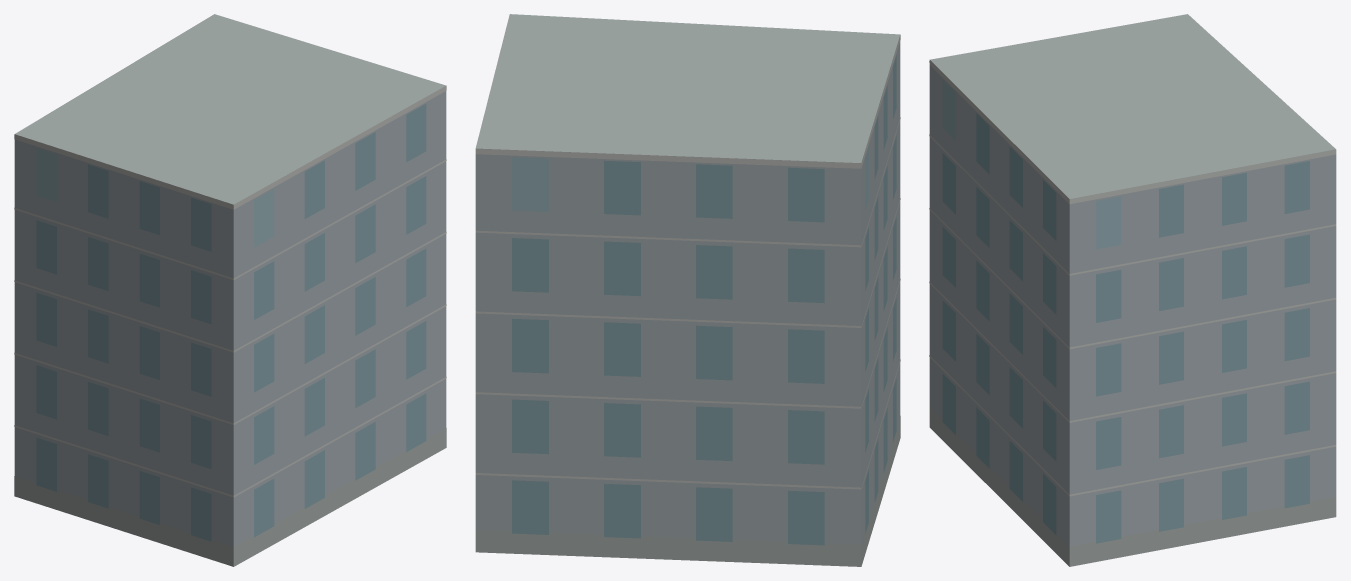
Rendered from survey-upis-32590996.glb.
3 views of the same model, side by side, from view 1: azimuth 30°, elevation 25°; view 2: azimuth 150°, elevation 25°; view 3: azimuth 270°, elevation 25° (orthographic). The views are drawn at different scales.
Parts seen in each view (by area): view 1: survey-upis-32590996.tmp; view 2: survey-upis-32590996.tmp; view 3: survey-upis-32590996.tmp.
Part boxes in pixels (left/top/right/bottom): survey-upis-32590996.tmp: left=14, top=14, right=446, bottom=566; survey-upis-32590996.tmp: left=475, top=14, right=900, bottom=566; survey-upis-32590996.tmp: left=929, top=14, right=1336, bottom=566.
Size of the model in its own units: 18.7 by 17.3 by 17.35.
